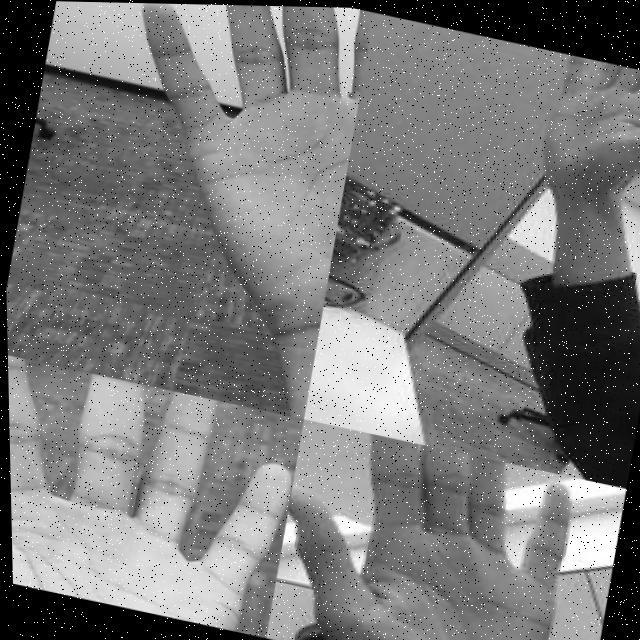no-gloves: (85, 2, 380, 330), (6, 353, 305, 637), (259, 417, 589, 640), (529, 48, 640, 208)
